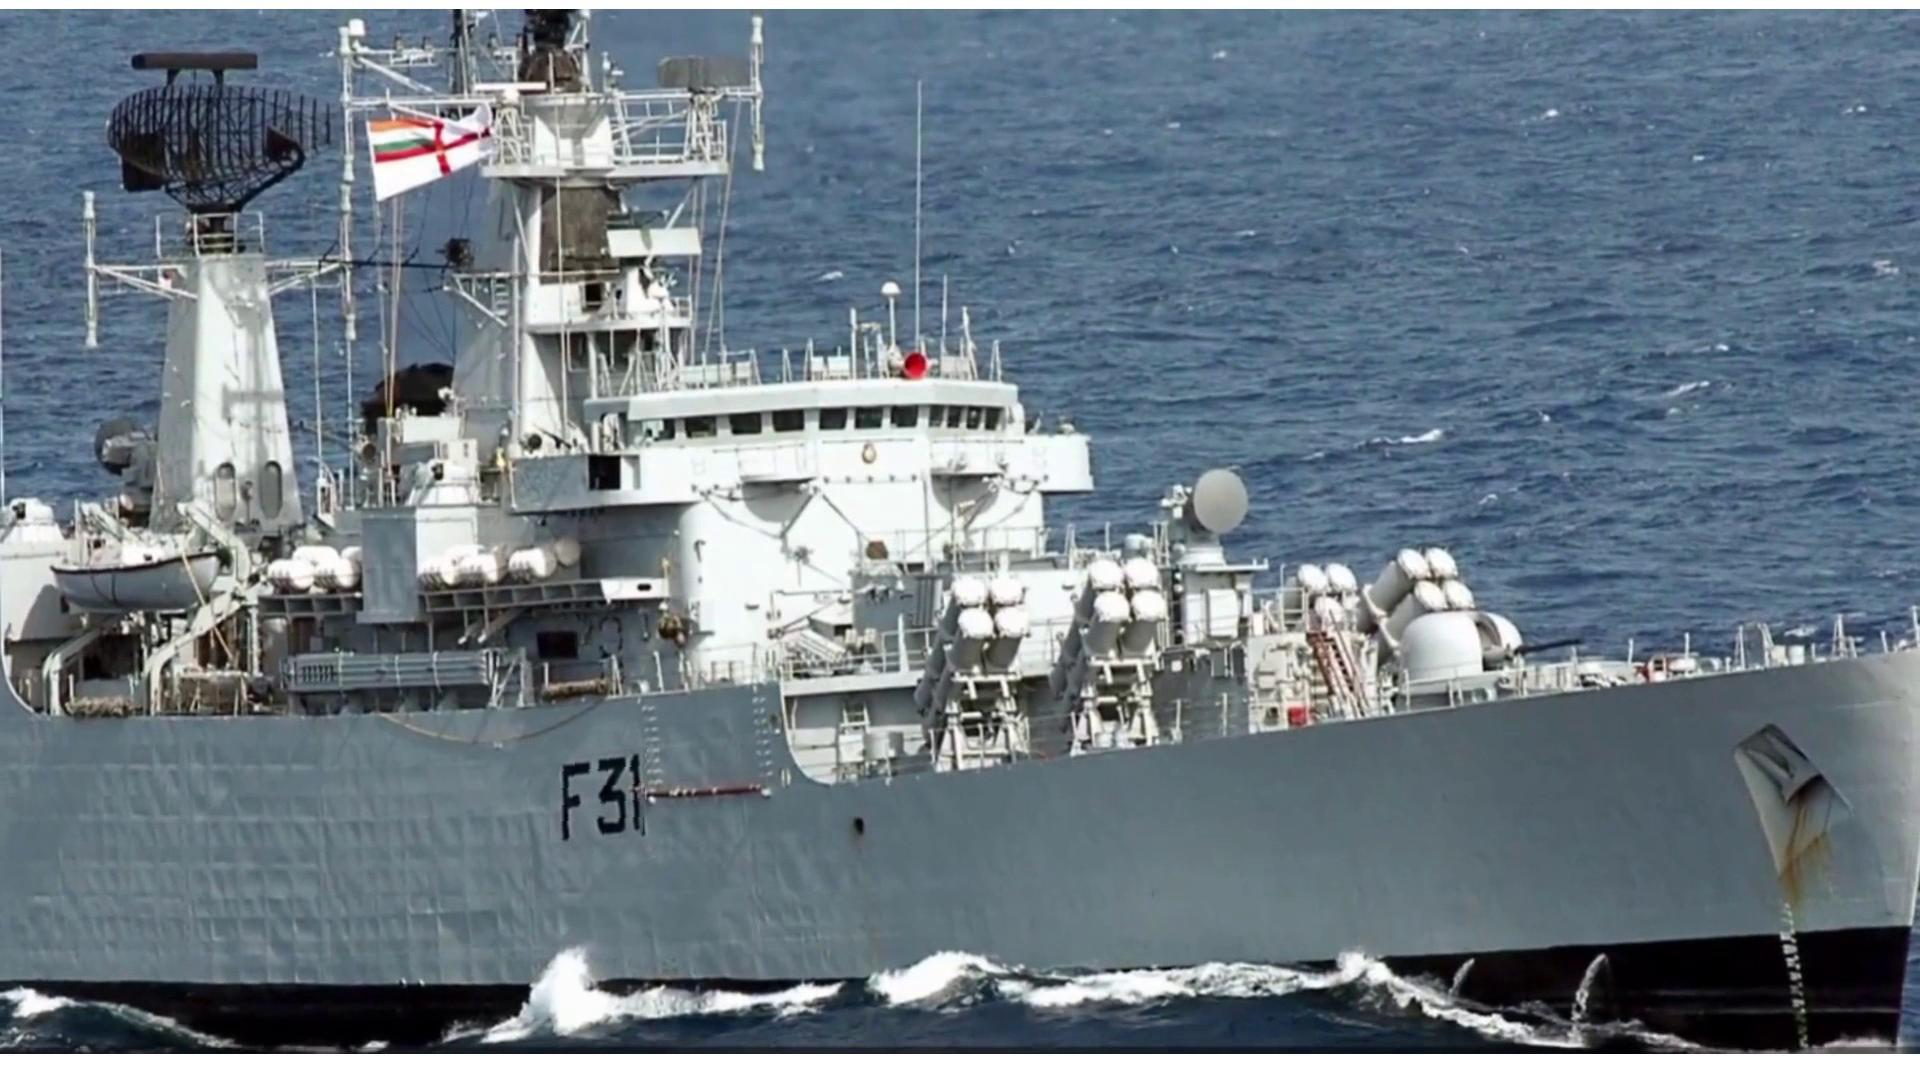OCR: (550, 747, 648, 846)
